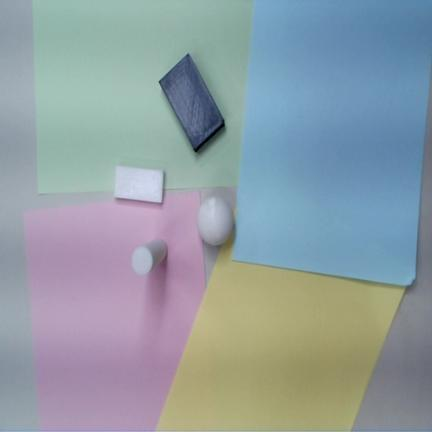Cilindro: (131, 239, 167, 277)
Esfera: (196, 196, 234, 245)
Paralelepipedo: (159, 52, 225, 152), (114, 165, 164, 204)
